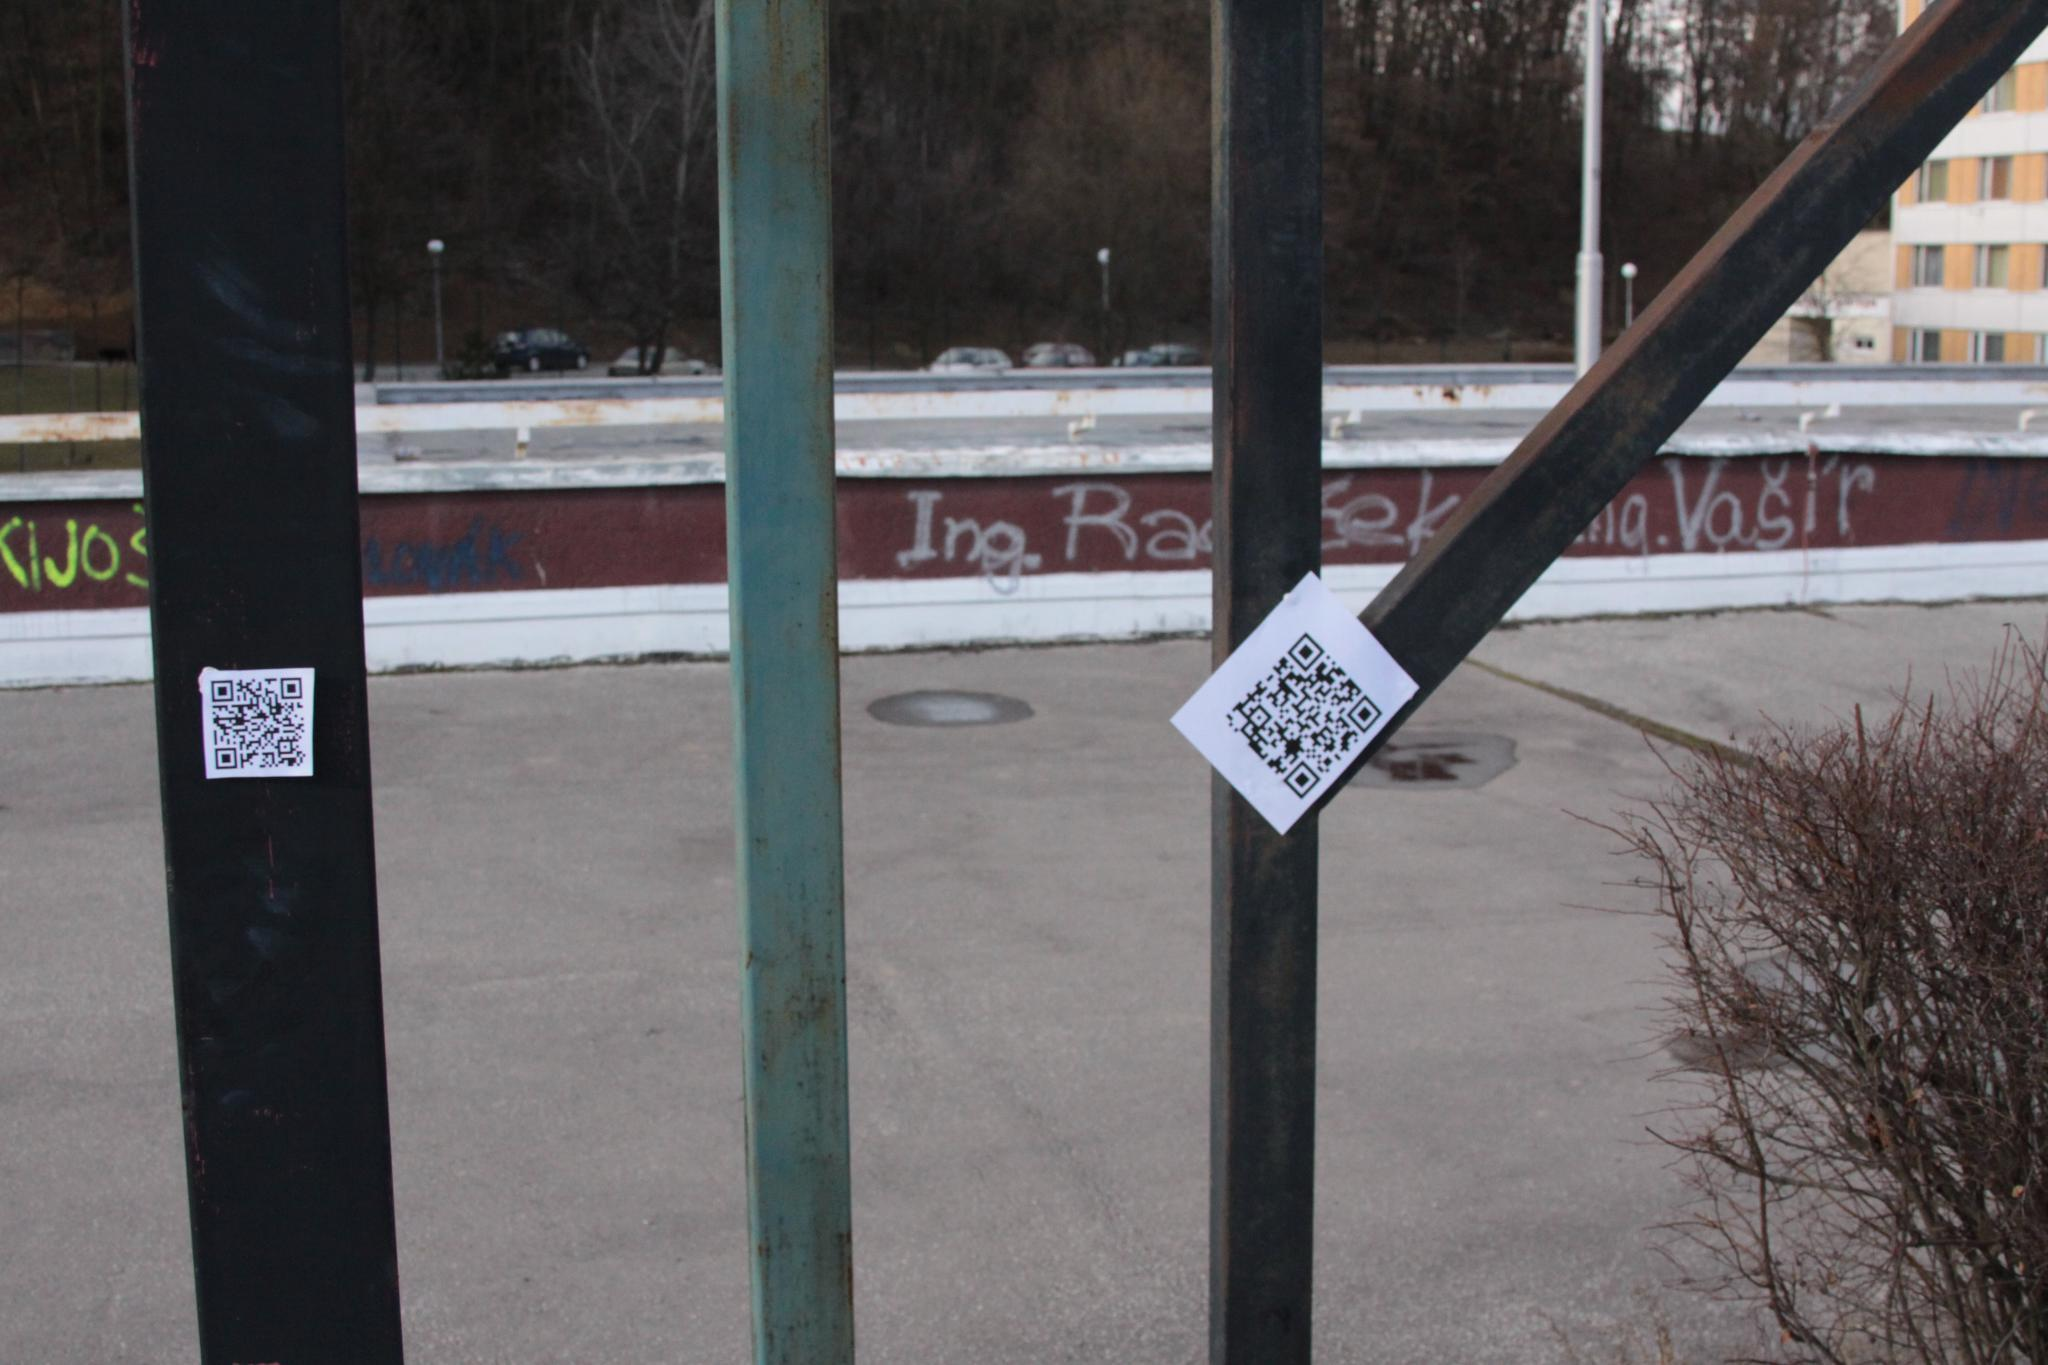Finder pattern: (1278, 756, 1326, 801), (1284, 628, 1328, 672), (1346, 695, 1392, 734), (209, 740, 247, 775), (206, 673, 238, 705), (274, 673, 309, 702)
